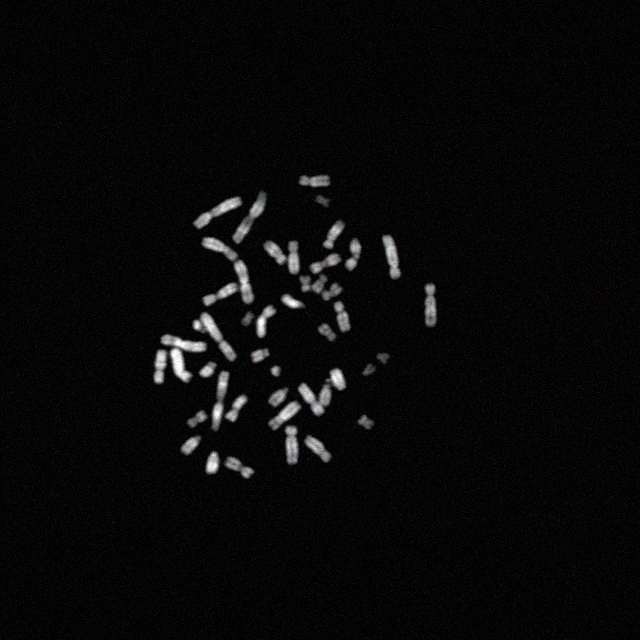chromosome: (202, 312, 236, 360), (234, 192, 266, 242), (194, 197, 242, 229), (268, 401, 300, 431), (212, 372, 228, 431), (298, 382, 324, 416), (200, 238, 238, 260), (171, 348, 194, 384), (204, 282, 236, 306), (236, 260, 254, 302), (383, 236, 401, 278), (162, 335, 206, 351), (305, 436, 331, 462), (256, 305, 276, 337), (224, 456, 253, 478), (264, 240, 288, 266), (311, 253, 341, 273), (324, 220, 344, 248), (226, 396, 247, 422), (425, 284, 437, 326), (335, 302, 351, 332), (346, 238, 360, 272), (286, 426, 298, 464), (154, 349, 166, 383), (288, 240, 300, 274), (268, 386, 287, 406), (329, 368, 346, 390), (319, 379, 333, 405), (300, 176, 330, 187), (182, 436, 200, 454), (318, 324, 336, 342), (322, 284, 342, 300), (282, 294, 304, 308), (188, 410, 207, 426), (206, 452, 219, 474), (199, 361, 216, 377), (358, 414, 374, 430), (252, 348, 270, 362), (312, 275, 326, 291), (193, 321, 207, 334), (241, 312, 253, 326), (362, 364, 376, 376), (300, 276, 310, 292), (376, 352, 389, 364), (316, 195, 328, 207), (272, 366, 280, 376)
